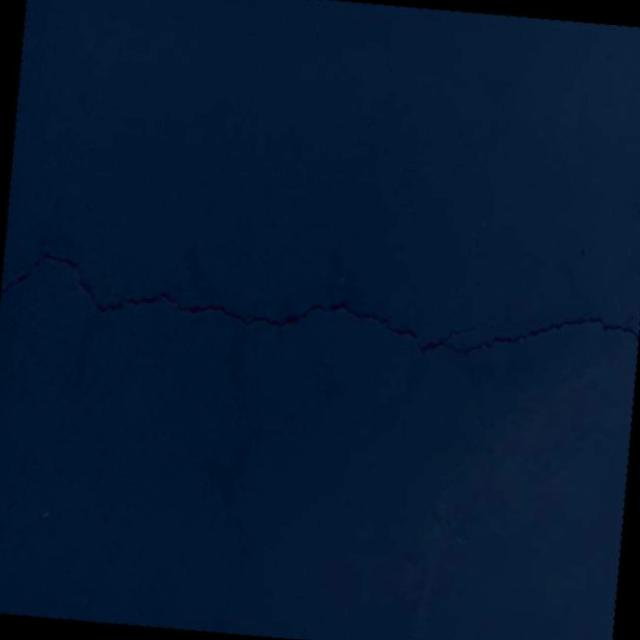crack: (0, 248, 640, 523), (226, 502, 249, 580)
